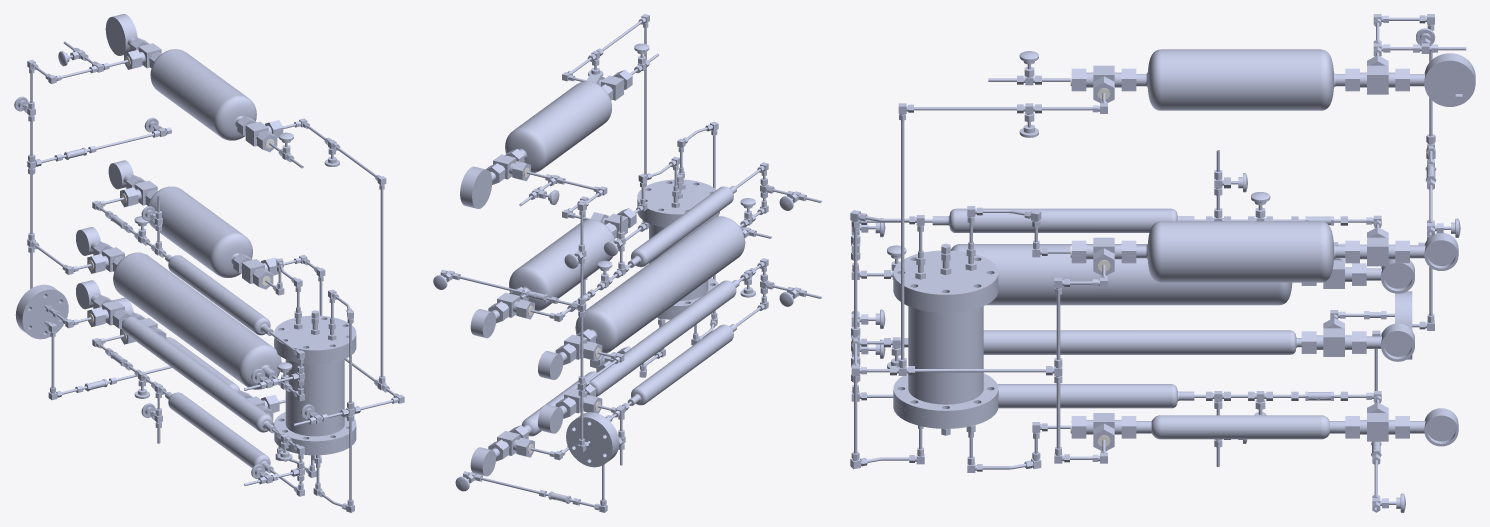
The model's file is Электролизер.FBX.
3 views of the same model, side by side, from view 1: azimuth 30°, elevation 25°; view 2: azimuth 150°, elevation 25°; view 3: azimuth 270°, elevation 25° (orthographic). The views are drawn at different scales.
Visible parts, largest first — view 1: Revolve1 (×5), Cut-Extrude2 (×4), Cut-Revolve3 (×7), Cut-Extrude1 (×4), Cut-Extrude4, Boss-Extrude1, Boss-Extrude2; view 2: Revolve1 (×5), Cut-Extrude2 (×3), Cut-Revolve3 (×7), Cut-Extrude1 (×5), Cut-Extrude3, Boss-Extrude2; view 3: Revolve1 (×5), Cut-Extrude2 (×4), Cut-Revolve3 (×8), Cut-Extrude1 (×5), Boss-Extrude2, Boss-Extrude1.
Part boxes in pixels (<box>): Revolve1 (×5): <box>121,49,276,473</box>; Cut-Extrude2 (×4): <box>113,252,356,467</box>; Cut-Revolve3 (×7): <box>87,37,283,420</box>; Cut-Extrude1 (×4): <box>76,14,137,309</box>; Cut-Extrude4: <box>19,287,68,339</box>; Boss-Extrude1: <box>380,190,383,377</box>; Boss-Extrude2: <box>160,335,240,392</box>; Revolve1 (×5): <box>505,81,739,405</box>; Cut-Extrude2 (×3): <box>575,167,745,353</box>; Cut-Revolve3 (×7): <box>486,70,636,461</box>; Cut-Extrude1 (×5): <box>460,166,563,476</box>; Cut-Extrude3: <box>566,414,615,467</box>; Boss-Extrude2: <box>521,369,601,436</box>; Revolve1 (×5): <box>932,49,1345,408</box>; Cut-Extrude2 (×4): <box>893,241,1292,437</box>; Cut-Revolve3 (×8): <box>1071,55,1409,450</box>; Cut-Extrude1 (×5): <box>1381,53,1475,446</box>; Boss-Extrude2: <box>1136,415,1345,439</box>; Boss-Extrude1: <box>901,120,904,359</box>.
Bounding box in the file's own units: 17.68 × 34.17 × 43.24.
